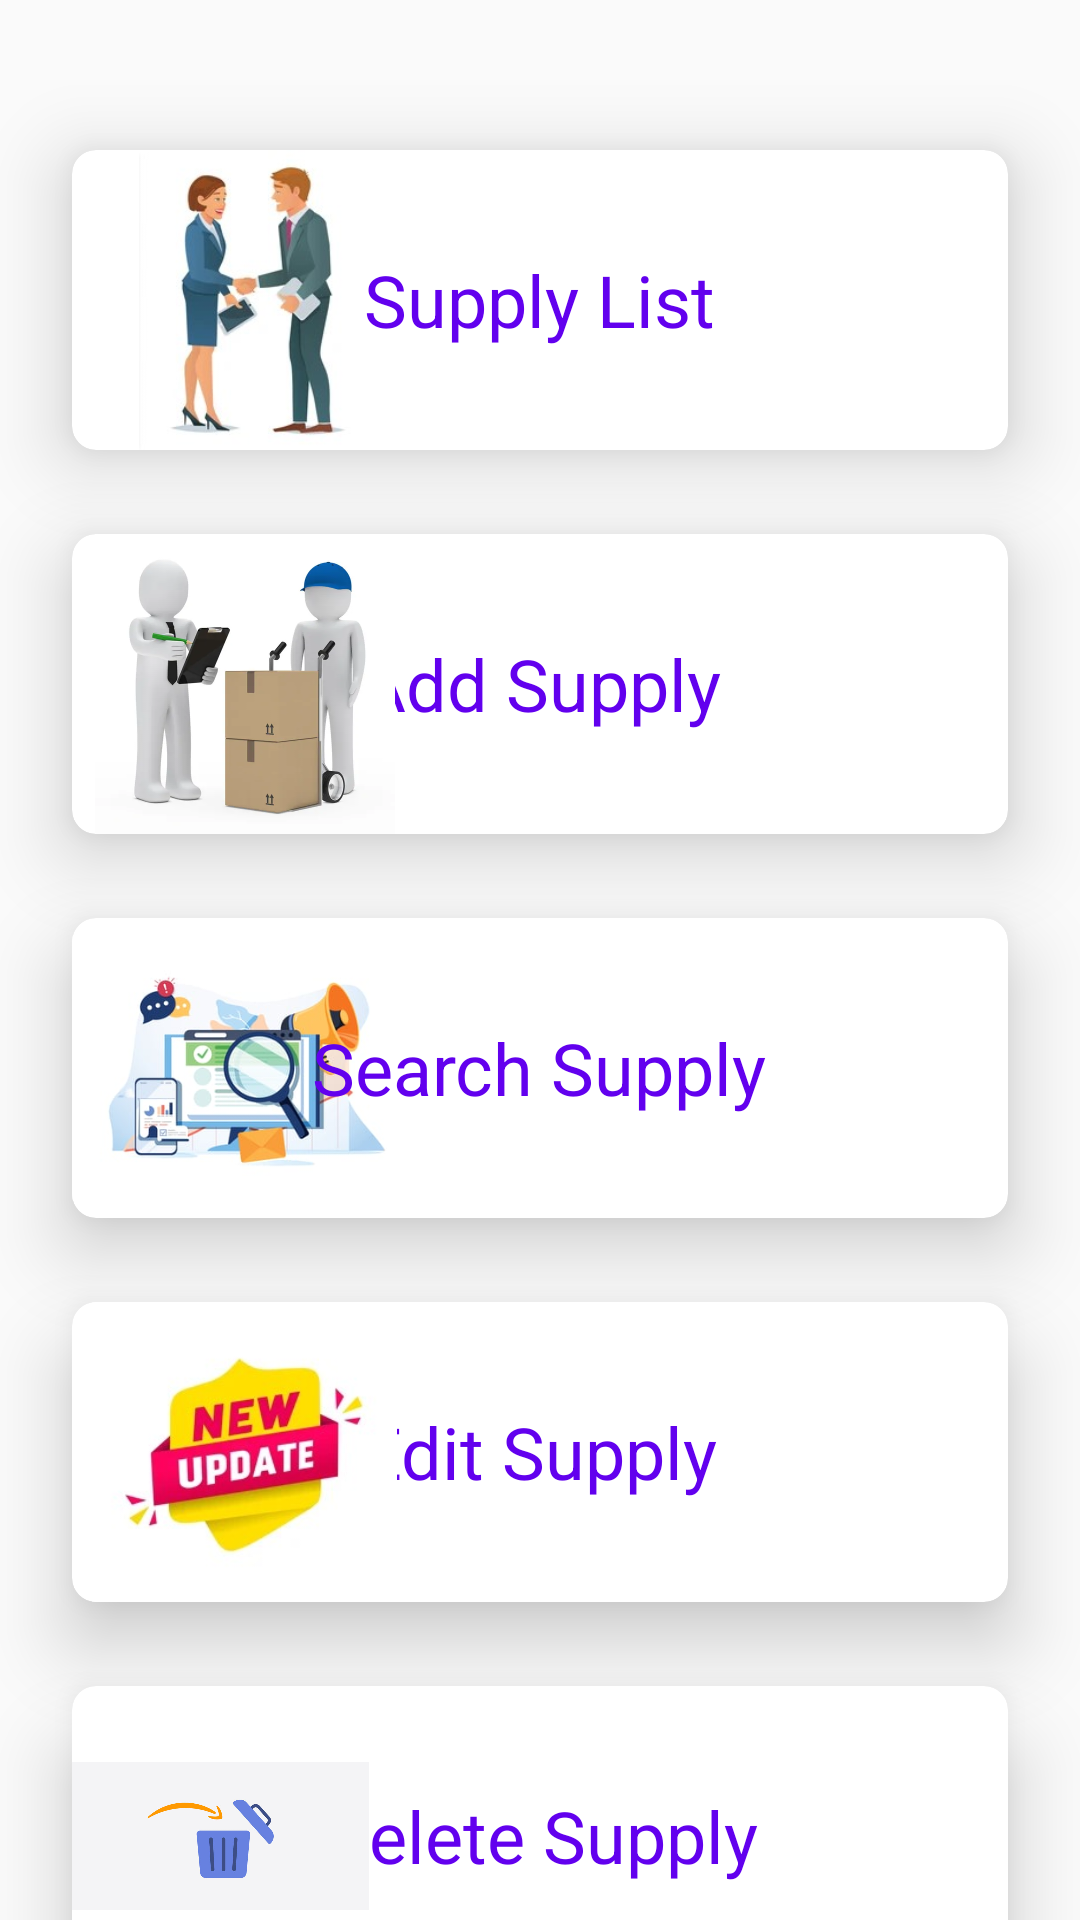

Locate icon controls on the screen. Image size 1080w x 1920h, boxes as (x1, y1, x2, y2).
readsupply: (72, 918, 426, 1218)
